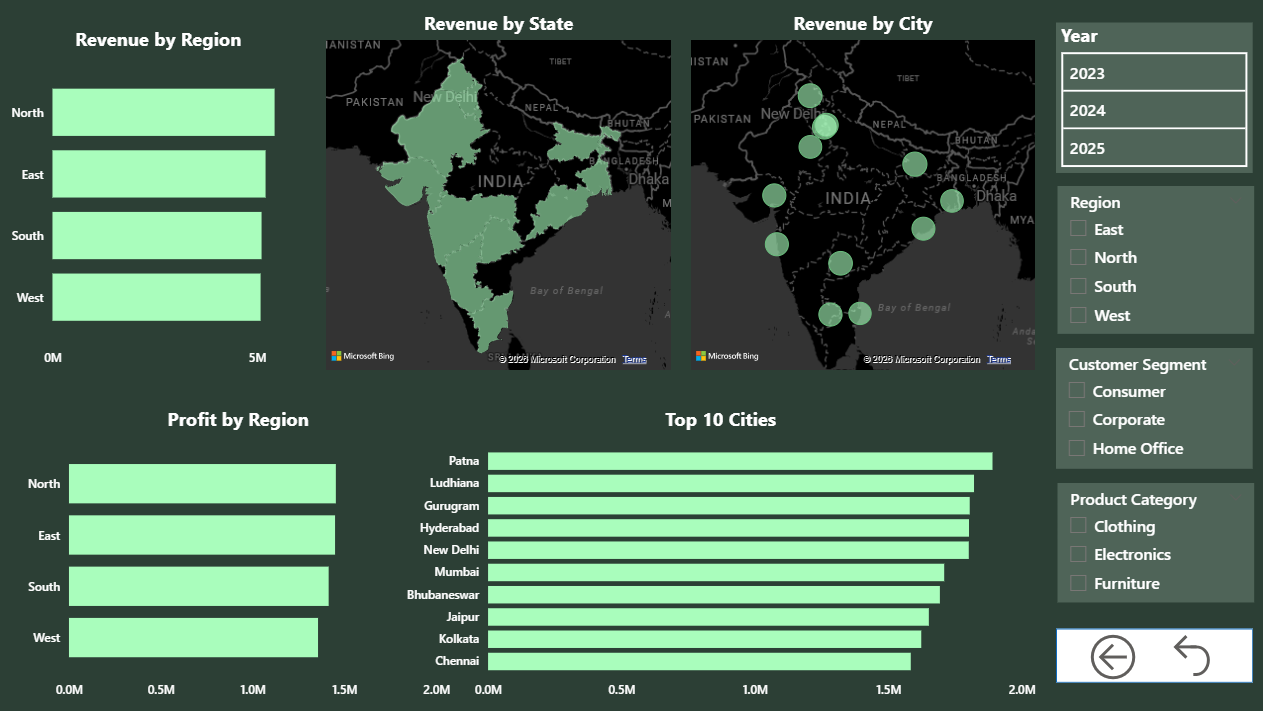

What the dashboard file says about the page in this screenshot:
{"tool":"powerbi","page":{"name":"Geography Analysis","canvas":[1280,720],"ordinal":3},"visuals":[{"type":"shape","box":[1056,0,222.7,721.3],"z":0,"group":"g2"},{"type":"filledMap","title":"Revenue by State","fields":{"Category":["cleaned_retail_sales.State"]},"box":[320,0,368,384],"z":1000},{"type":"map","title":"Revenue by City","fields":{"Category":["cleaned_retail_sales.City"],"Size":["Sum(cleaned_retail_sales.Revenue)"]},"box":[688,0,368,384],"z":2000},{"type":"clusteredBarChart","title":"Profit by Region","fields":{"Category":["cleaned_retail_sales.Region"],"Y":["Sum(cleaned_retail_sales.Profit)"]},"box":[16,400,448,320],"z":3000},{"type":"clusteredBarChart","title":"Top 10 Cities","fields":{"Category":["cleaned_retail_sales.City"],"Y":["Sum(cleaned_retail_sales.Revenue)"]},"box":[400,400,656,320],"z":4000},{"type":"clusteredBarChart","title":"Revenue by Region","fields":{"Category":["cleaned_retail_sales.Region"],"Y":["Sum(cleaned_retail_sales.Revenue)"]},"box":[0,16,320,368],"z":5000},{"type":"advancedSlicerVisual","fields":{"Values":["cleaned_retail_sales.OrderMonth.Variation.Date Hierarchy.Year"]},"box":[1067,23.3,199,152.3],"z":6000,"group":"g2"},{"type":"slicer","fields":{"Values":["Dim_Geography.Region"]},"box":[1068.4,188,199,149.6],"z":7000,"group":"g2"},{"type":"slicer","fields":{"Values":["Dim_Customer.Customer_Segment"]},"box":[1067,351.3,199,122.1],"z":8000,"group":"g2"},{"type":"slicer","fields":{"Values":["cleaned_retail_sales.Product_Category"]},"box":[1068.4,487.2,199,120.8],"z":9000,"group":"g2"},{"type":"group","id":"g1","title":"Group 1","box":[1067,633.6,199,59],"z":10000,"group":"g2"},{"type":"shape","box":[1067,635.4,199,54.9],"z":10000,"group":"g1"},{"type":"group","id":"g2","title":"field pane","box":[1056,0,224,720],"z":10001},{"type":"actionButton","box":[1095.8,635,68.6,57.6],"z":11000,"group":"g1"},{"type":"actionButton","box":[1178.2,633.6,53.5,57.6],"z":12000,"group":"g1"}]}

Visuals, with their boxes in screenshot pixels (x1, y1, x2, y2), scaled from the page's 1280x720 canvas onto the 1263x711 screenshot:
shape: select_region(1042, 0, 1262, 710)
"Revenue by State" filledMap: select_region(316, 0, 679, 379)
"Revenue by City" map: select_region(679, 0, 1042, 379)
"Profit by Region" clusteredBarChart: select_region(16, 395, 458, 710)
"Top 10 Cities" clusteredBarChart: select_region(395, 395, 1042, 710)
"Revenue by Region" clusteredBarChart: select_region(0, 16, 316, 379)
advancedSlicerVisual - cleaned_retail_sales.OrderMonth.Variation.Date Hierarchy.Year: select_region(1053, 23, 1249, 173)
slicer - Dim_Geography.Region: select_region(1054, 186, 1251, 333)
slicer - Dim_Customer.Customer_Segment: select_region(1053, 347, 1249, 467)
slicer - cleaned_retail_sales.Product_Category: select_region(1054, 481, 1251, 600)
"Group 1" group: select_region(1053, 626, 1249, 684)
shape: select_region(1053, 627, 1249, 682)
"field pane" group: select_region(1042, 0, 1262, 710)
actionButton: select_region(1081, 627, 1149, 684)
actionButton: select_region(1163, 626, 1215, 683)
